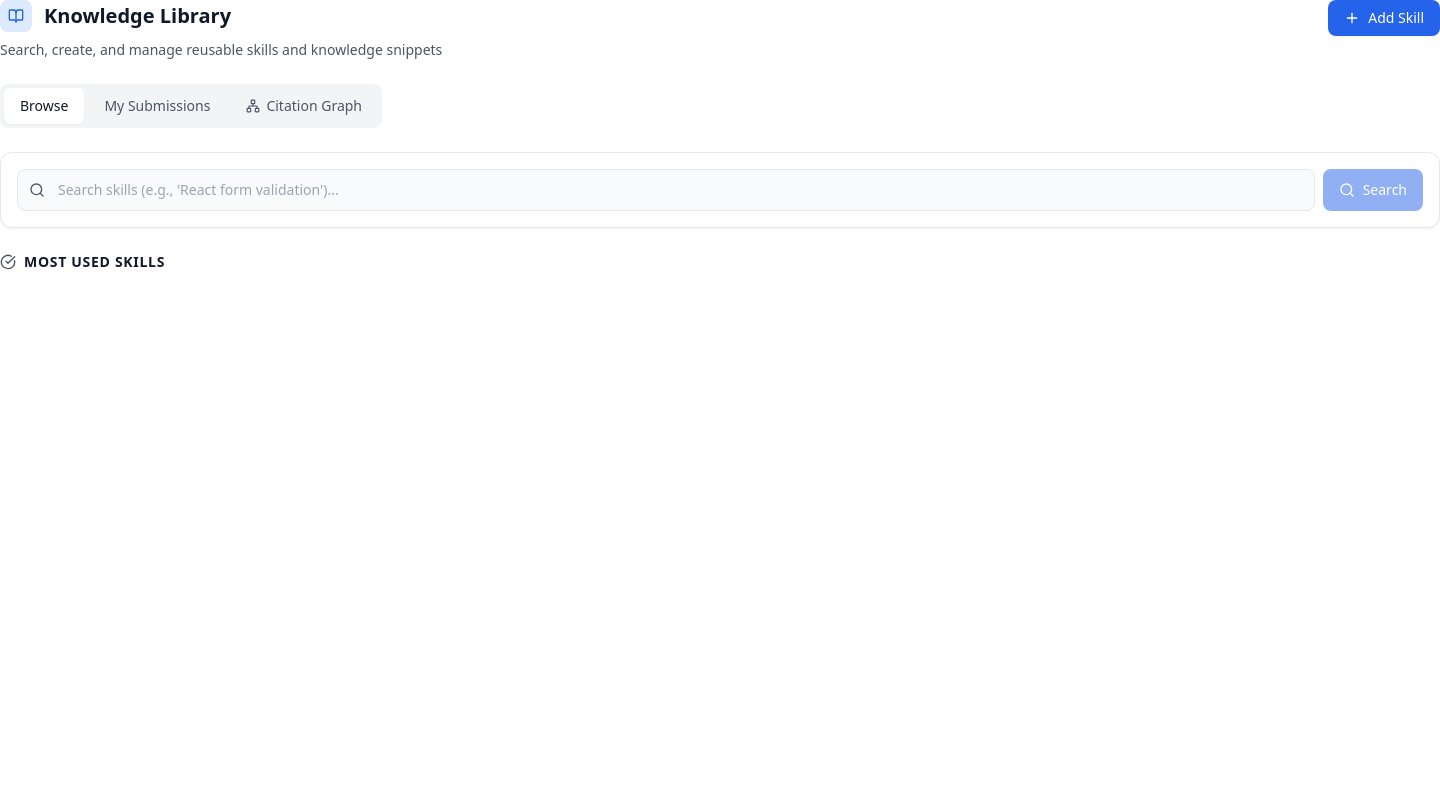
12.6.2 — Skill creation/editing UI works › opens create modal with all required fields
Click the button "Add Skill" at coordinates (1384, 18), box [1328, 0, 1439, 36]
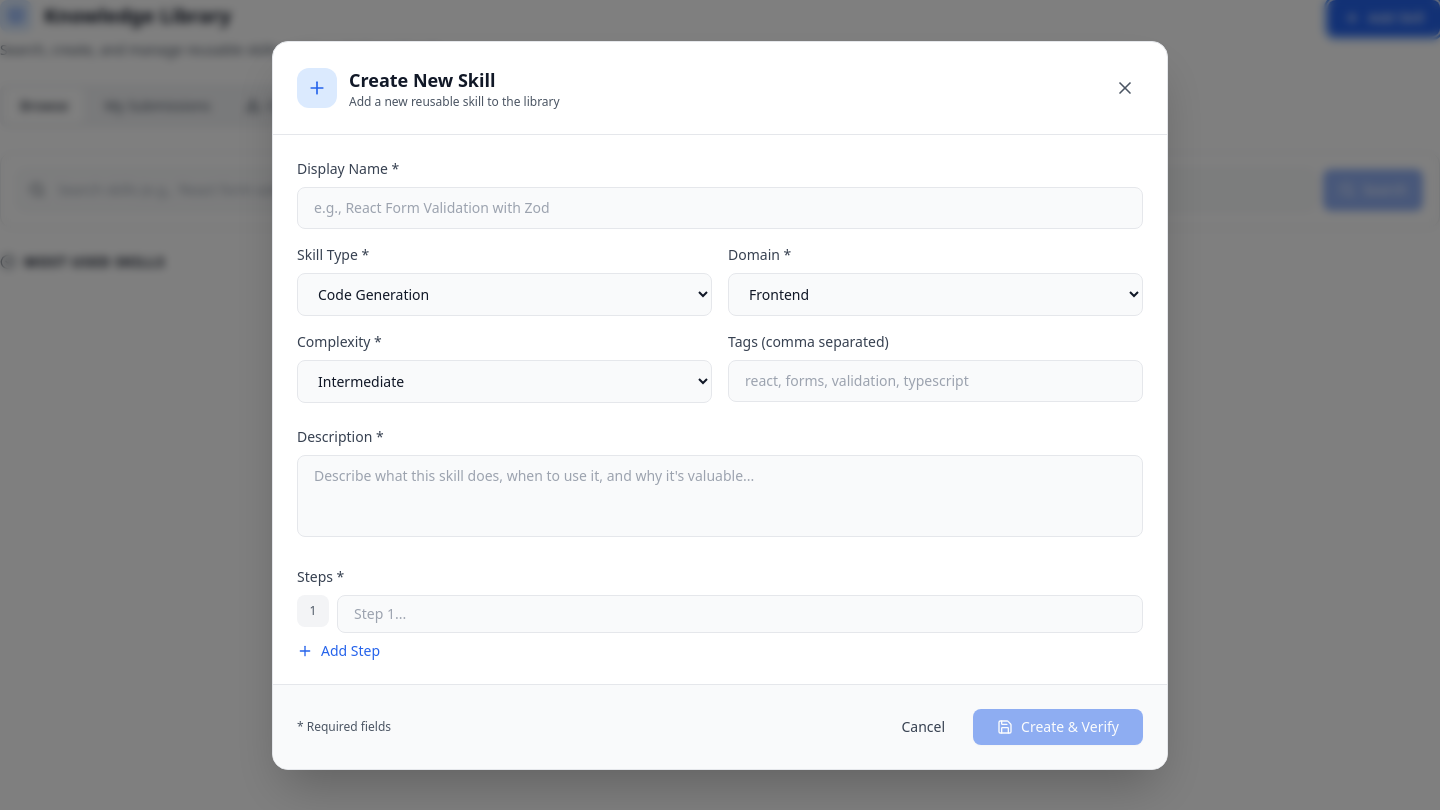
Now the heading "Create New Skill" is shown, box [349, 68, 496, 92]
Now the text "Display Name *" is shown, box [297, 158, 399, 178]
Now the text "Skill Type *" is shown, box [297, 244, 369, 264]
